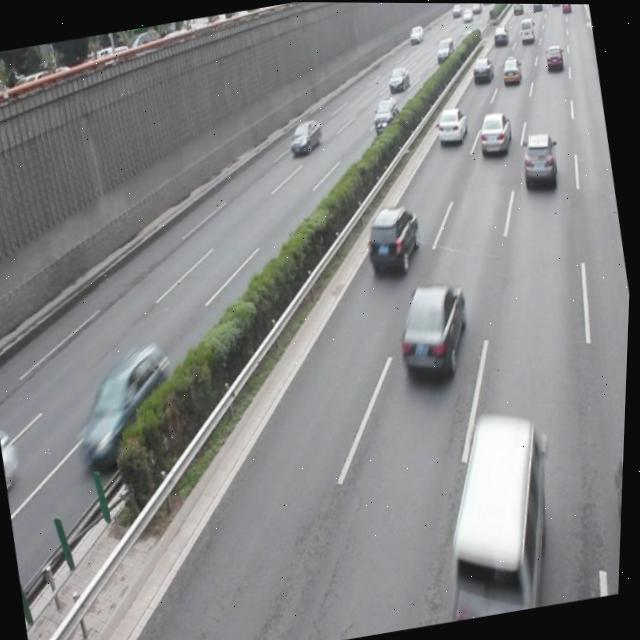car: (66, 339, 189, 472), (390, 274, 478, 383), (360, 201, 428, 278), (607, 443, 627, 591), (0, 414, 28, 507), (517, 129, 561, 188), (474, 108, 515, 159), (286, 116, 326, 156), (433, 103, 470, 145), (369, 95, 401, 133)
truck: (426, 406, 570, 620)
